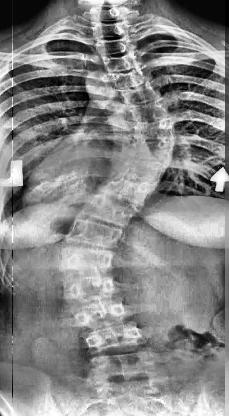Vertebrae: (90, 350, 161, 382), (60, 242, 119, 274), (86, 323, 142, 355), (70, 300, 128, 328), (63, 272, 125, 298), (73, 221, 125, 251), (90, 197, 136, 230), (100, 179, 150, 209), (117, 159, 171, 185), (131, 99, 171, 125), (133, 138, 178, 158), (124, 80, 160, 104), (133, 119, 179, 137), (107, 54, 141, 78), (114, 69, 146, 91), (98, 37, 134, 55), (98, 24, 132, 38)
